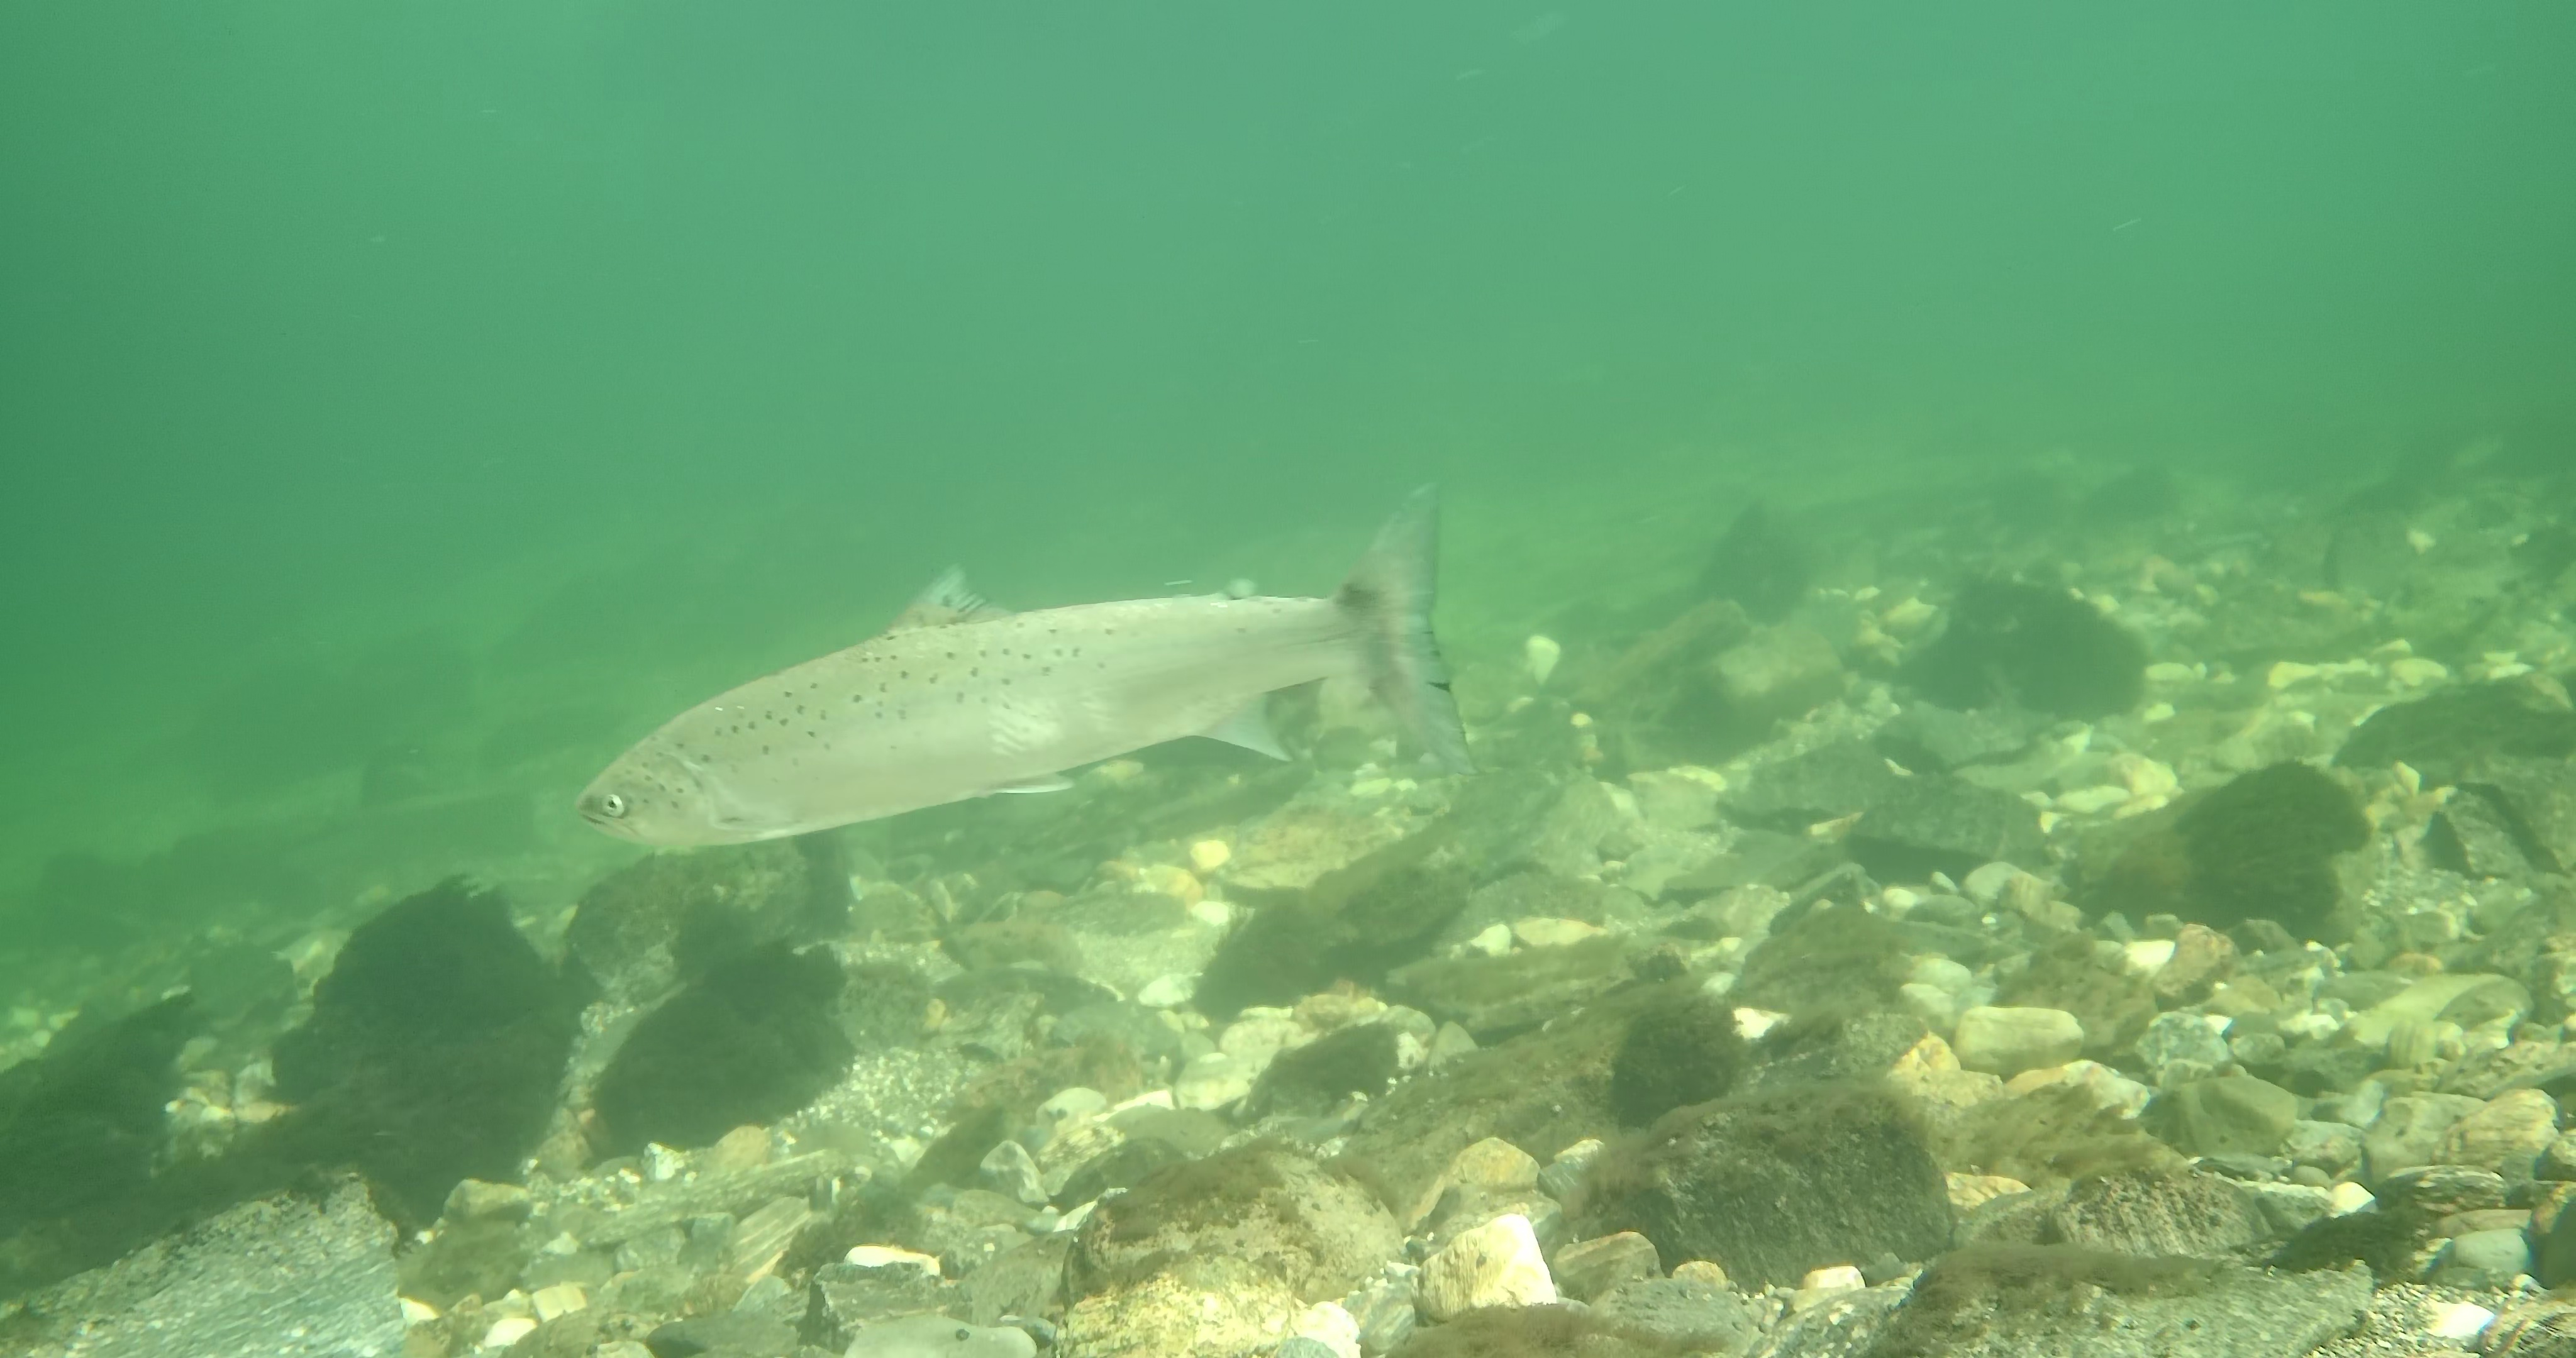salmon: (572, 477, 1481, 850)
